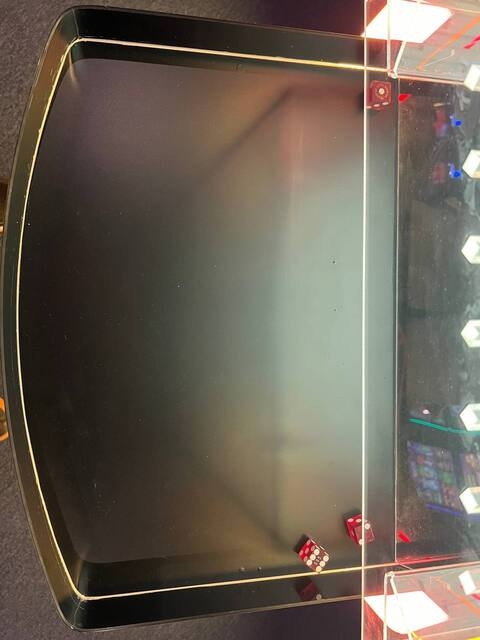one: (368, 78, 394, 104)
six: (303, 545, 333, 576)
two: (351, 519, 377, 549)
